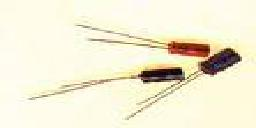Electrolytic-Capacitor: (73, 22, 225, 63), (32, 66, 192, 93), (201, 47, 244, 81)
